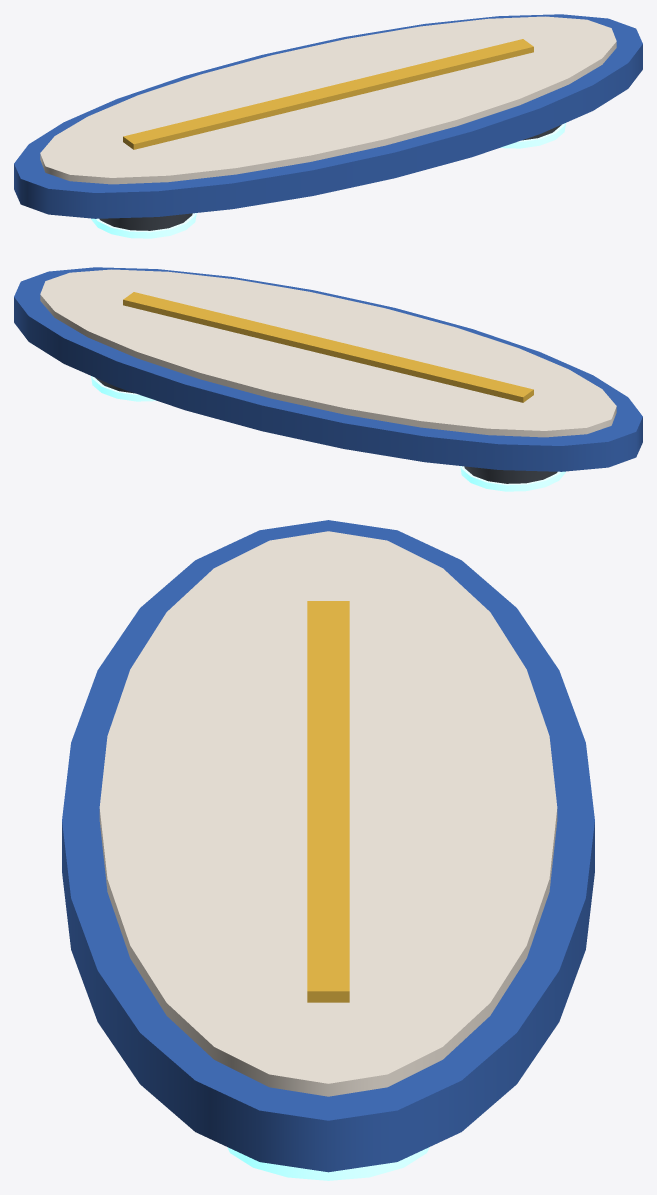
Rendered from Hoverboard.glb.
3 renders of one model, top to bottom at view 1: azimuth 30°, elevation 25°; view 2: azimuth 150°, elevation 25°; view 3: azimuth 270°, elevation 25°, orthographic. The views are drawn at different scales.
Visible parts, largest first — view 1: Body, Glow; view 2: Body, Glow; view 3: Body, Glow.
Part boxes in pixels (bbox=[...]): Body: bbox=[14, 14, 642, 230]; Glow: bbox=[91, 123, 565, 238]; Body: bbox=[14, 267, 642, 483]; Glow: bbox=[91, 376, 565, 491]; Body: bbox=[62, 520, 594, 1172]; Glow: bbox=[227, 1147, 429, 1180].
Bounding box in the file's own units: 4 × 0.495 × 1.5.
Materials: 2 (1 with a texture image).
